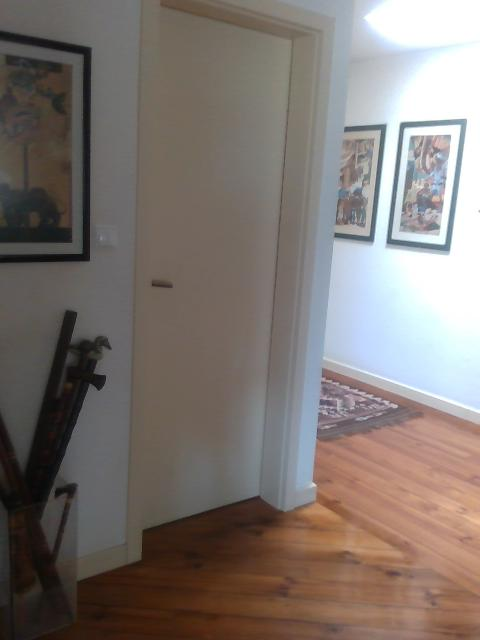door: (130, 1, 293, 529)
